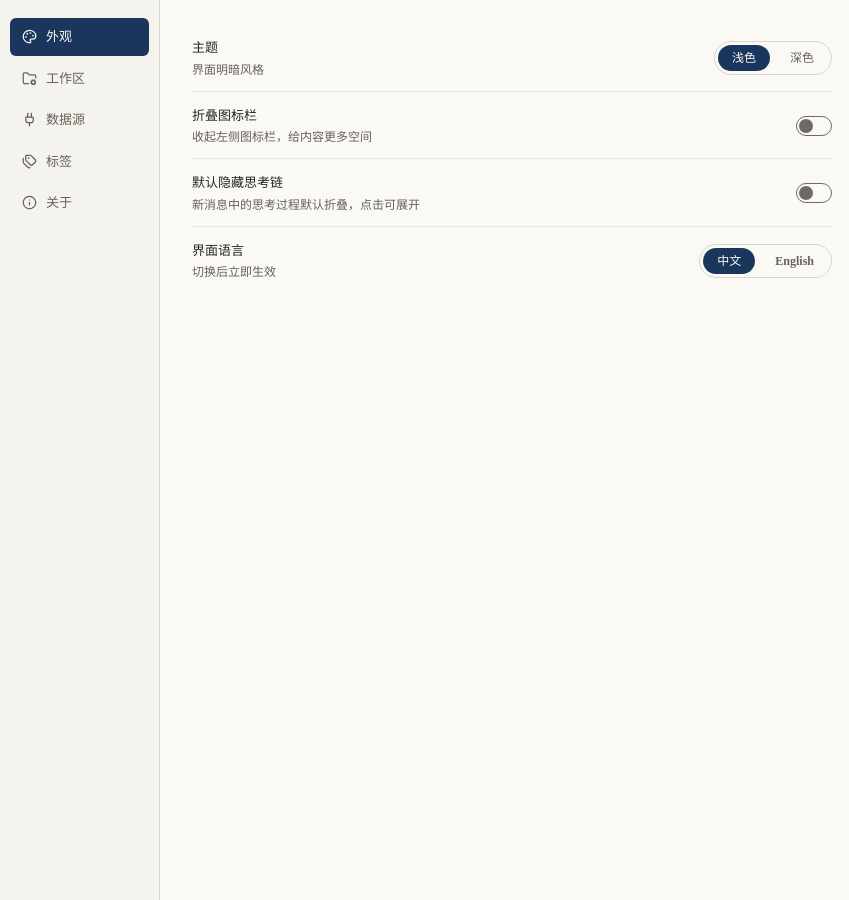
Test: 设置页:分组导航 › 点击「工作区」导航切换右面板内容
This screenshot has width=849, height=900.
Click the button "工作区": (80, 78) [10,60,149,97]
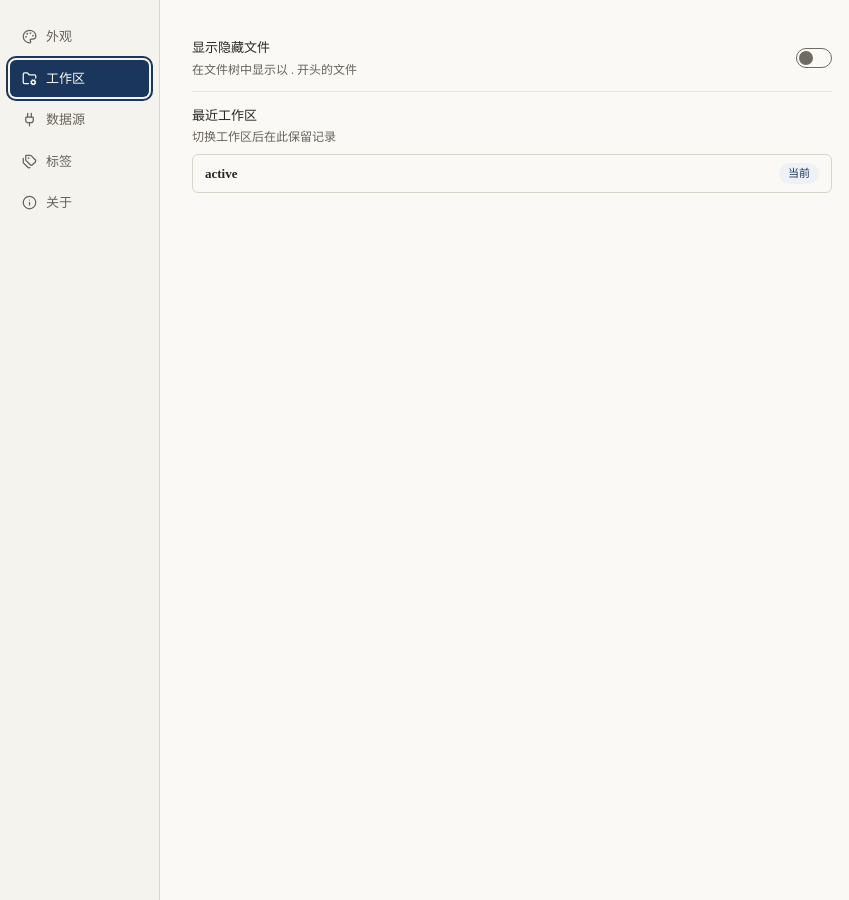
Expected: the text "最近工作区" is shown, [192,108,257,122]
Expected: the text "主题" is gone
Click the button "关于": (80, 203) [10,184,149,222]
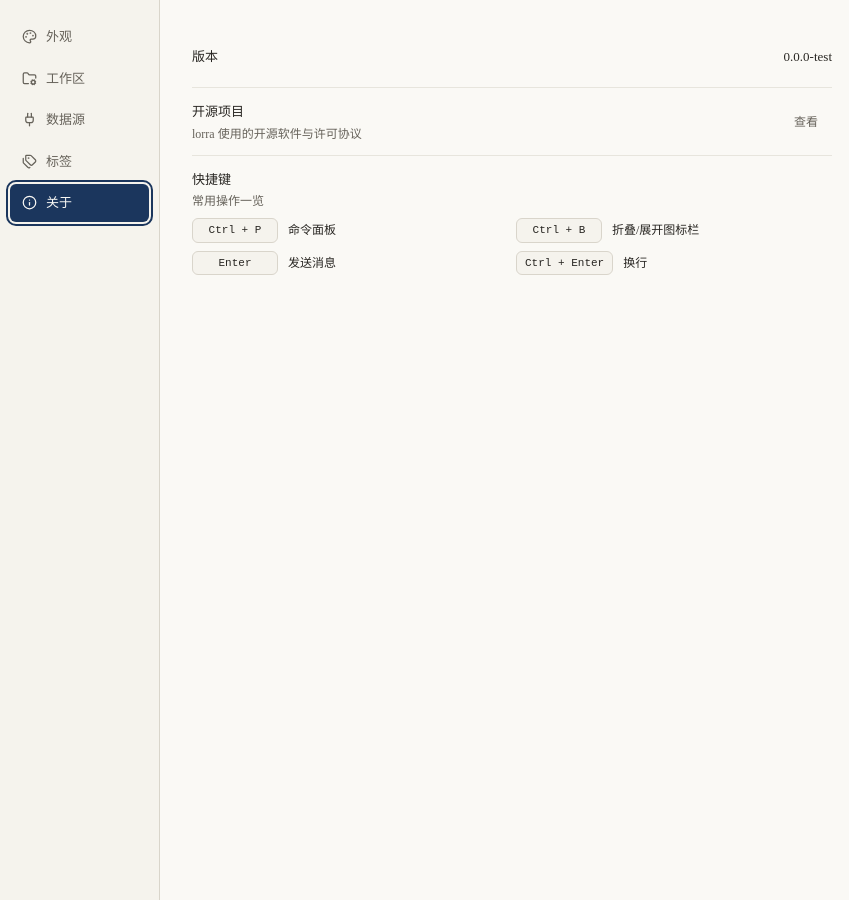
Expected: the text "版本" is shown, [192,49,218,64]
Expected: the text "最近工作区" is gone
